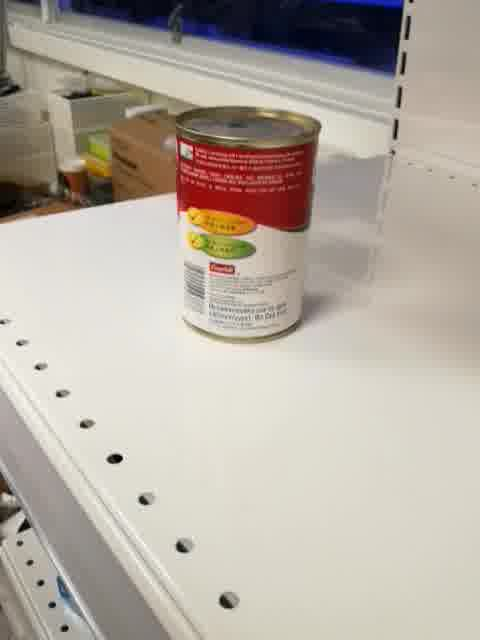tomatosoup: (171, 102, 324, 345)
